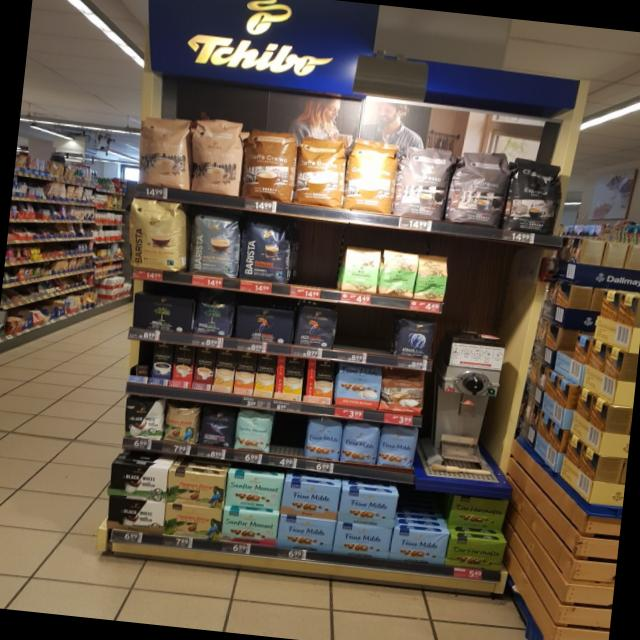AB Bohne: (393, 313, 440, 359)
Athiopien Bohne: (411, 252, 451, 302)
Athiopien Gemahlen: (336, 241, 385, 296), (375, 246, 420, 299)
BM Bohne: (192, 289, 236, 336)
BM Gemahlen: (130, 291, 195, 334)
BW Bohne: (122, 395, 166, 441)
BW Gemahlen: (107, 461, 168, 503), (107, 496, 166, 527)
Barista CB: (129, 196, 190, 274)
Barista CC: (183, 209, 241, 279)
Barista Espresso: (235, 216, 296, 284)
C Fino Bohne: (196, 403, 238, 449)
CC Mild: (135, 113, 198, 191), (188, 118, 249, 198)
CC Vollmundig: (377, 366, 428, 416)
CC Vollmundig 36 Pads: (341, 137, 403, 216), (238, 128, 299, 204), (292, 135, 351, 210)
Colombia BB Bohne: (160, 402, 201, 445)
Colombia BB Gemahlen: (165, 468, 227, 509), (162, 502, 223, 541)
Empty Shelf: (287, 223, 346, 289), (335, 309, 397, 354), (394, 493, 452, 532), (269, 413, 309, 457), (129, 340, 154, 376)
Espresso Aromatisch: (445, 147, 516, 229), (389, 143, 459, 222)
Espresso Kraftig: (502, 156, 567, 236)
FM 36 Pads: (333, 361, 384, 411)
FM Bohne: (375, 424, 421, 469), (339, 421, 382, 466), (303, 418, 344, 462)
FM Gemahlen: (279, 480, 341, 521), (336, 487, 398, 528), (276, 514, 337, 553), (388, 527, 450, 565), (332, 521, 393, 559)
Herzhatfe Mundig: (444, 535, 507, 571), (448, 496, 510, 531)
LG Bohne: (292, 302, 341, 349)
LG Gemahlen: (231, 305, 297, 345)
SM Bohne: (232, 409, 275, 453)
SM Gemahlen: (219, 508, 279, 547), (224, 472, 284, 510)
Simo CCMild: (274, 356, 306, 403)
Simo CCMild bigpack: (251, 353, 278, 398)
Simo CCVollmundig: (304, 359, 337, 406)
Simo CCVollmundig bigpack: (231, 351, 258, 396)
Simo Decaff: (211, 349, 237, 394)
Simo Es Brazil: (169, 344, 196, 389)
Simo Es Caramel: (147, 341, 175, 386), (191, 346, 217, 391)
